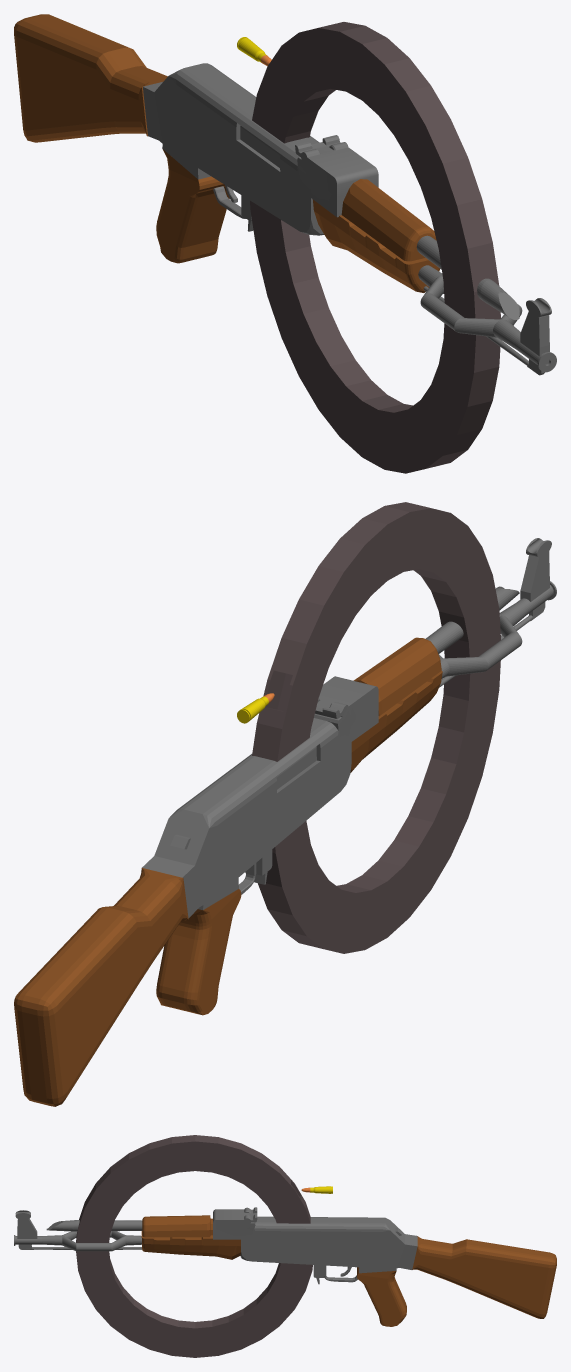
File: Legendary.fbx
3 renders of one model, top to bottom at view 1: azimuth 30°, elevation 25°; view 2: azimuth 150°, elevation 25°; view 3: azimuth 270°, elevation 25°, orthographic. The views are drawn at different scales.
Visible parts, largest first — view 1: Legendary, Body.005, Stock.004, Grip.004, Top Front Grip.004, Rear Sight Thingy.004, Bottom Handguard thing.004, Outside Barrel, Top Barrel.005, Front Sight.004, Bottom Barrel.004; view 2: Legendary, Stock.004, Body.005, Grip.004, Top Front Grip.004, Rear Sight Thingy.004, Bottom Handguard thing.004, Outside Barrel, Front Sight.004, Top Barrel.005; view 3: Legendary, Body.005, Stock.004, Bottom Handguard thing.004, Grip.004, Top Front Grip.004, Rear Sight Thingy.004, Outside Barrel, Top Barrel.005, Front Sight.004.
Boxes of the visible parts, x1,y1,x2,y2 form: Legendary: [250, 22, 500, 473]; Body.005: [143, 63, 324, 235]; Stock.004: [14, 14, 167, 142]; Grip.004: [156, 149, 229, 263]; Top Front Grip.004: [341, 179, 436, 261]; Rear Sight Thingy.004: [295, 135, 378, 217]; Bottom Handguard thing.004: [312, 199, 439, 292]; Outside Barrel: [420, 275, 522, 337]; Top Barrel.005: [416, 235, 519, 320]; Front Sight.004: [520, 311, 549, 375]; Bottom Barrel.004: [514, 336, 556, 372]; Legendary: [252, 502, 500, 953]; Stock.004: [14, 868, 188, 1106]; Body.005: [142, 718, 351, 918]; Grip.004: [156, 889, 241, 1015]; Top Front Grip.004: [353, 637, 441, 716]; Rear Sight Thingy.004: [314, 676, 378, 741]; Bottom Handguard thing.004: [350, 670, 442, 772]; Outside Barrel: [438, 614, 522, 676]; Front Sight.004: [520, 551, 549, 621]; Top Barrel.005: [425, 586, 519, 653]; Legendary: [76, 1135, 312, 1357]; Body.005: [240, 1216, 417, 1284]; Stock.004: [412, 1236, 556, 1318]; Bottom Handguard thing.004: [141, 1231, 240, 1259]; Grip.004: [357, 1267, 406, 1326]; Top Front Grip.004: [142, 1215, 212, 1237]; Rear Sight Thingy.004: [213, 1207, 257, 1239]; Outside Barrel: [62, 1231, 125, 1251]; Top Barrel.005: [46, 1220, 142, 1231]; Front Sight.004: [17, 1218, 37, 1249].
Bounding box in the file's own units: 34.41 × 200 × 455.
